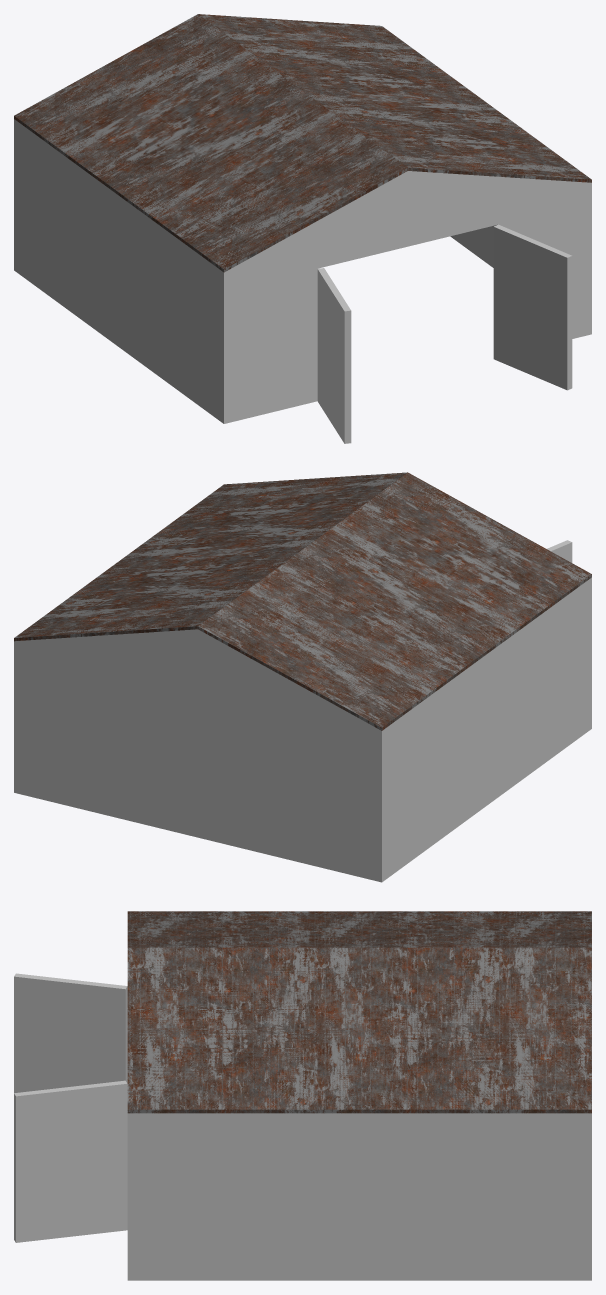
File: Barn 1.fbx
3 renders of one model, top to bottom at view 1: azimuth 30°, elevation 25°; view 2: azimuth 150°, elevation 25°; view 3: azimuth 270°, elevation 25°, orthographic. The views are drawn at different scales.
Parts seen in each view (by area): view 1: BARN; view 2: BARN; view 3: BARN.
Part boxes in pixels (x1,y1,x2,y2): BARN: (14,14,591,443); BARN: (14,472,591,882); BARN: (14,911,591,1280).
Bounding box in the file's own units: 2547 × 1399 × 3134.
